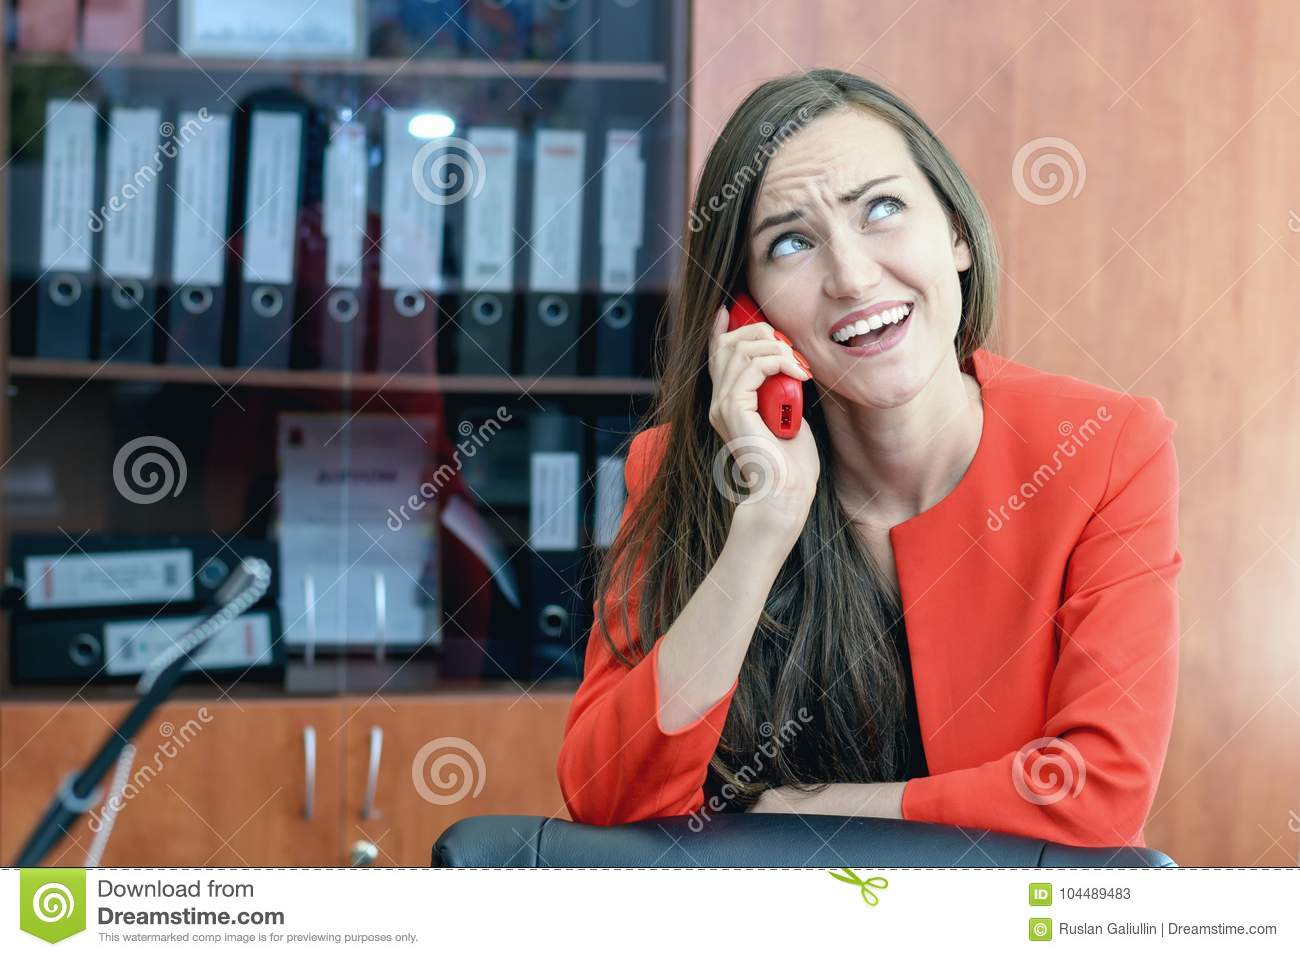phone: (722, 295, 804, 442)
talk: (702, 165, 936, 533)
